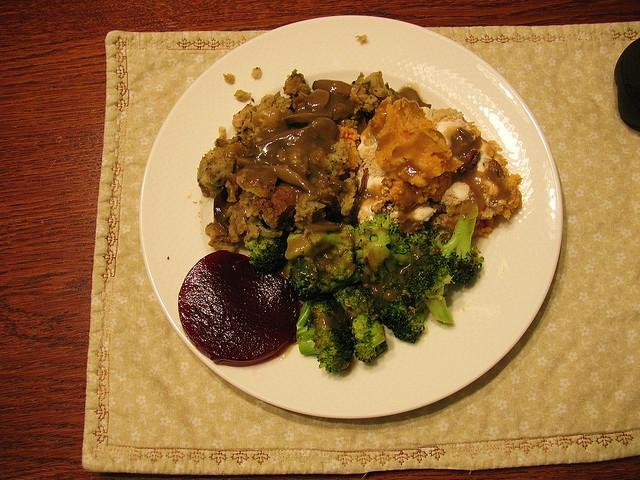broccoli: (296, 293, 354, 372), (368, 276, 429, 343), (355, 213, 412, 284), (436, 202, 484, 284), (402, 252, 456, 324), (350, 313, 388, 363), (314, 245, 356, 285), (244, 234, 288, 272), (334, 285, 375, 313), (404, 230, 430, 256)
mushroom: (253, 127, 318, 165), (262, 165, 312, 193), (213, 185, 234, 232), (312, 80, 356, 100), (308, 117, 336, 140), (305, 89, 329, 111), (282, 113, 318, 124), (237, 156, 256, 168)
